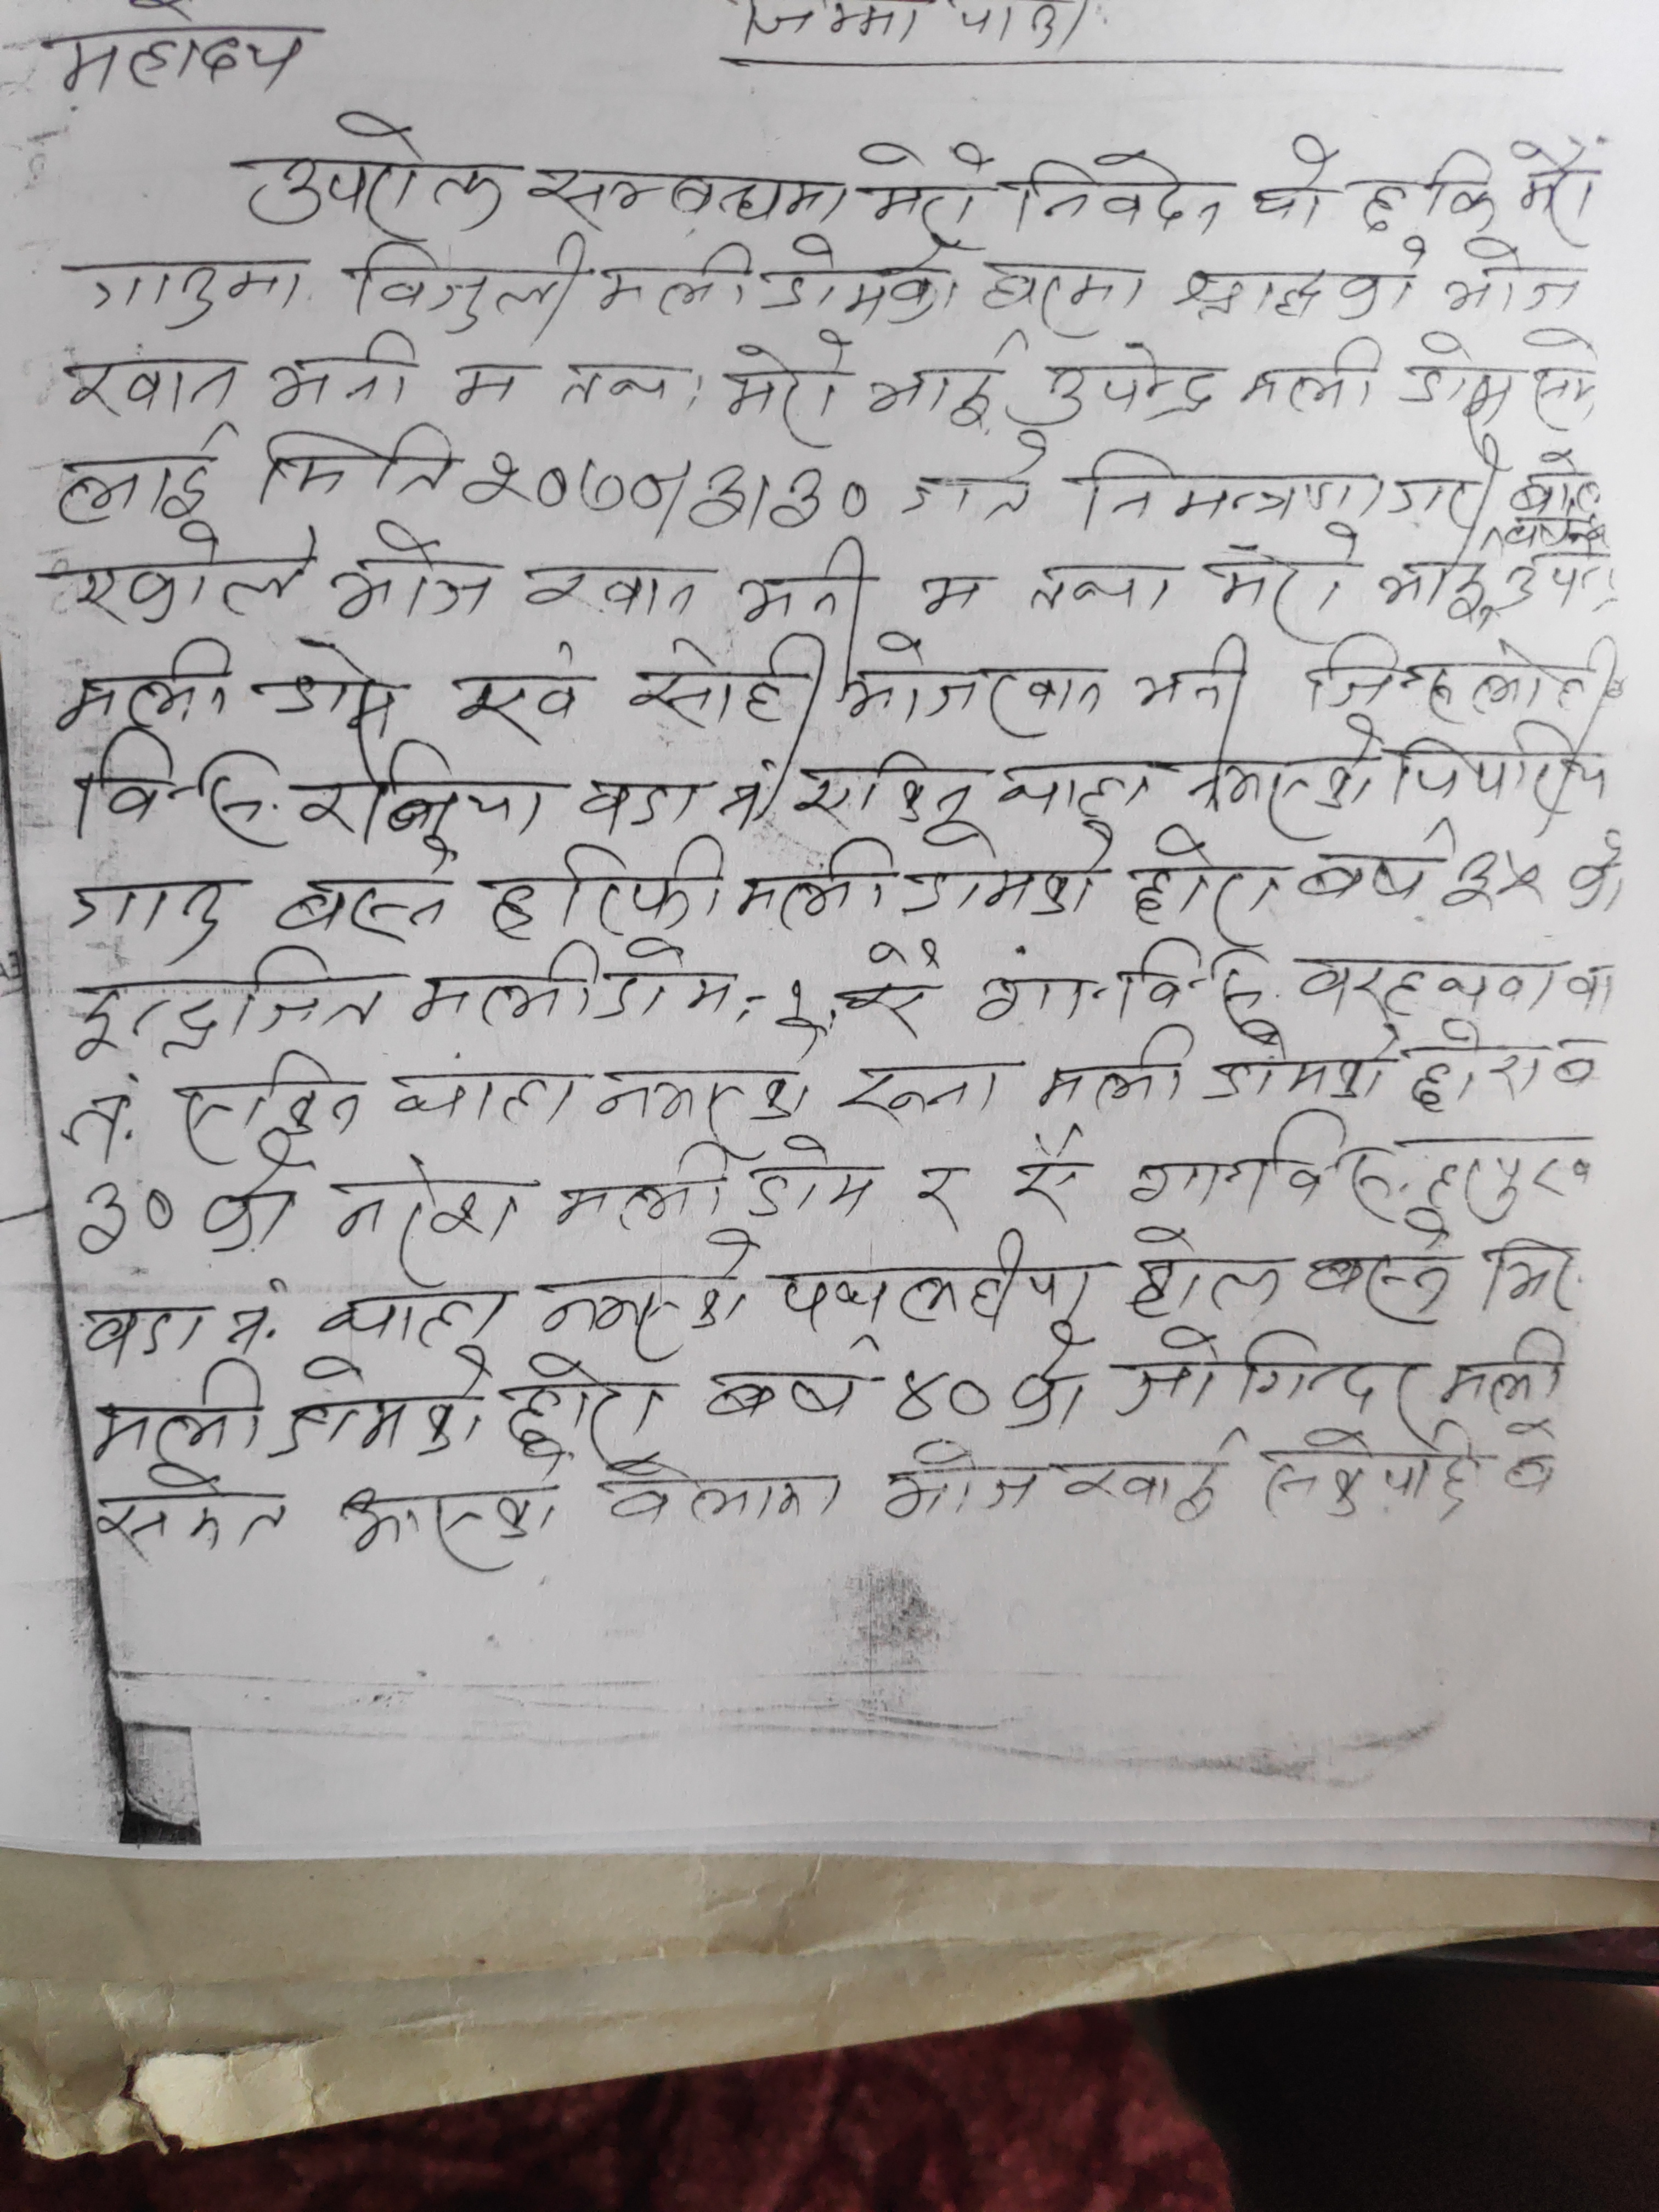text: (737, 819, 1114, 930), (460, 439, 882, 536), (58, 944, 403, 1059), (596, 230, 964, 329), (234, 110, 509, 239), (769, 1223, 1098, 1327), (878, 1437, 1244, 1531), (1110, 1318, 1420, 1426), (1117, 1108, 1389, 1226), (823, 627, 1121, 732), (537, 1219, 760, 1357), (410, 939, 739, 1031), (1300, 629, 1628, 721), (1065, 435, 1384, 529), (331, 1449, 568, 1573), (293, 733, 547, 843), (587, 1015, 821, 1134), (61, 733, 289, 853), (51, 529, 326, 627), (326, 1151, 528, 1282), (978, 939, 1270, 1028), (49, 2, 301, 105), (481, 836, 725, 939), (352, 233, 596, 334), (1262, 1420, 1478, 1533), (626, 620, 830, 738), (277, 1350, 493, 1460), (1394, 324, 1608, 432), (1180, 716, 1377, 831), (1171, 239, 1422, 326), (1396, 721, 1612, 820), (525, 160, 854, 225), (267, 831, 453, 941), (1011, 152, 1230, 244), (1288, 942, 1565, 1015), (63, 246, 305, 329), (592, 1453, 847, 1529), (321, 514, 502, 620), (160, 1049, 368, 1141), (1297, 1211, 1455, 1329), (251, 416, 462, 505), (94, 1465, 289, 1559), (85, 1360, 270, 1460), (54, 634, 230, 735), (551, 1139, 735, 1231), (1208, 1015, 1399, 1104), (502, 1353, 669, 1454), (63, 866, 234, 963), (781, 747, 979, 831), (720, 326, 857, 446), (866, 322, 1016, 432), (1032, 341, 1223, 427), (261, 632, 396, 752), (1124, 1223, 1286, 1322), (1033, 1026, 1197, 1122), (453, 634, 589, 749), (261, 324, 425, 418), (1209, 526, 1359, 627), (896, 435, 1051, 533), (852, 136, 993, 242), (1129, 840, 1283, 935), (389, 1062, 579, 1137), (972, 254, 1154, 333), (701, 1339, 870, 1423), (1406, 1015, 1546, 1115), (51, 439, 206, 528), (1389, 430, 1507, 542), (744, 1125, 875, 1226), (1237, 326, 1385, 415), (307, 1282, 516, 1345), (734, 540, 875, 632), (990, 742, 1159, 819), (1293, 829, 1448, 909), (833, 939, 950, 1043), (61, 352, 240, 420), (1014, 552, 1187, 622), (833, 1061, 1006, 1130), (202, 1139, 301, 1259), (1441, 235, 1581, 319), (1129, 632, 1253, 721), (1434, 1327, 1567, 1407), (523, 561, 699, 620), (1006, 1320, 1093, 1430), (554, 357, 709, 418), (1002, 1120, 1089, 1226), (70, 1179, 185, 1258), (1371, 549, 1493, 622), (1246, 129, 1333, 230), (1507, 134, 1593, 235), (737, 2, 931, 45), (1480, 1230, 1570, 1320), (78, 1299, 202, 1366), (573, 772, 697, 831), (894, 1359, 990, 1433), (51, 1076, 131, 1158), (1446, 848, 1551, 911), (1420, 145, 1499, 225), (948, 2, 1060, 51), (906, 1155, 965, 1240), (711, 756, 769, 841), (441, 361, 526, 409), (915, 568, 988, 624), (1349, 172, 1406, 242), (218, 1292, 281, 1353)
